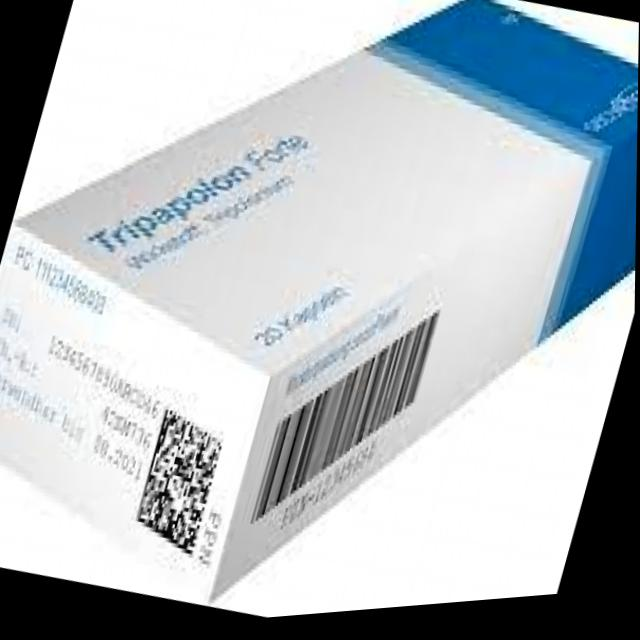datamatrix: (124, 397, 240, 575)
